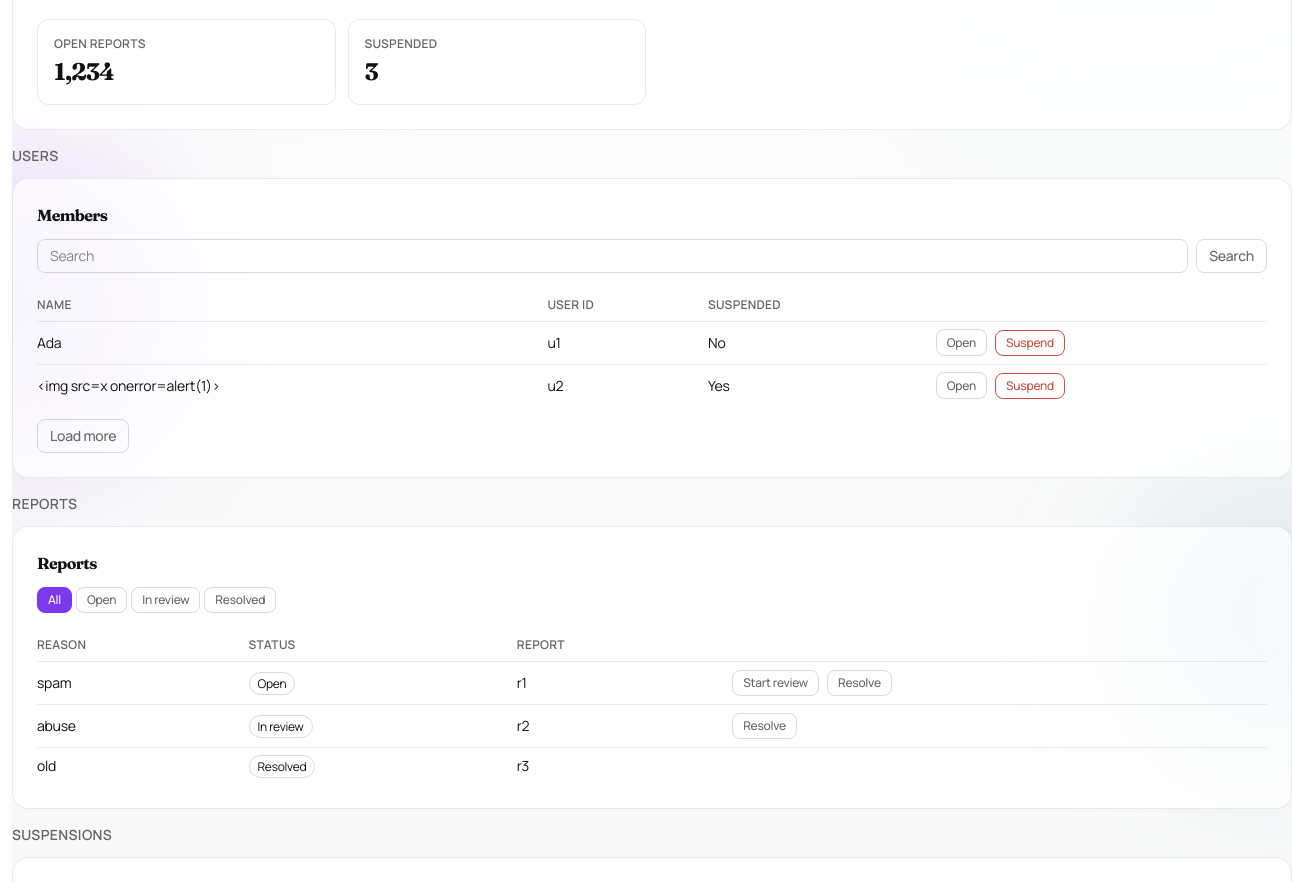
OperatorView — users: search, paging, detail (#240 slice 3) › loads the next page with the returned cursor and appends it; no button once paging ends
(page scrolled)
Click the button "Load more": (83, 436) [37,419,129,453]
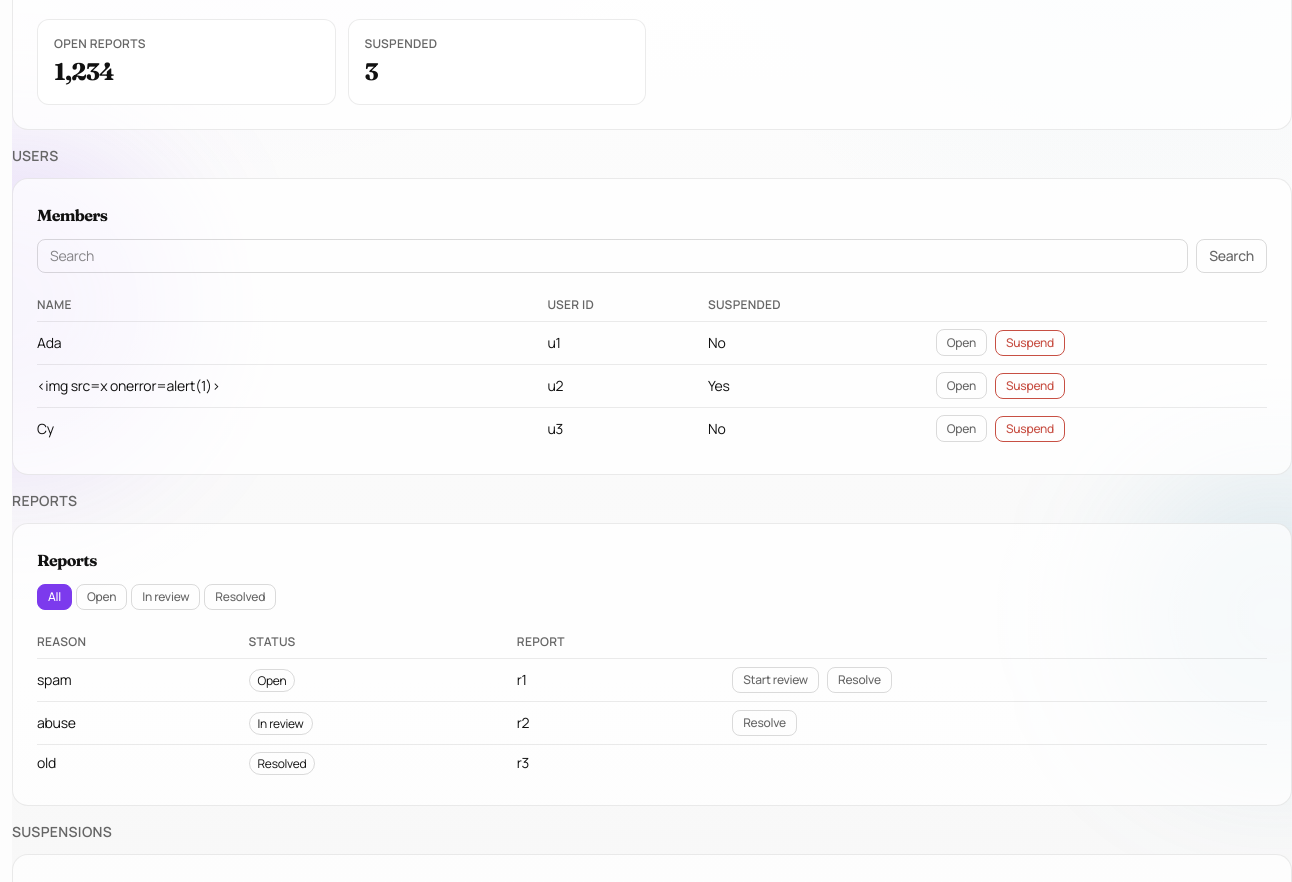
Expected: the text "Ada" is shown, [37,322,548,364]
Expected: the text "Cy" is shown, [37,408,548,450]
Expected: the button "Load more" is gone
